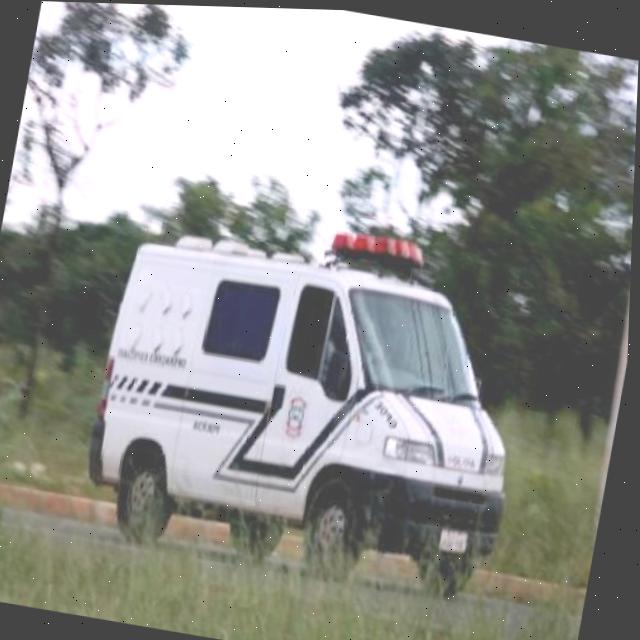emergency: (73, 188, 553, 606)
